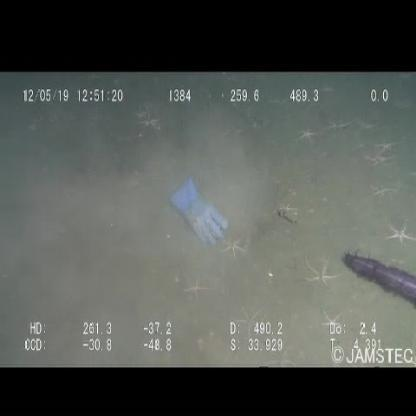Bio: (340, 247, 416, 308)
Rác: (166, 174, 234, 258)
